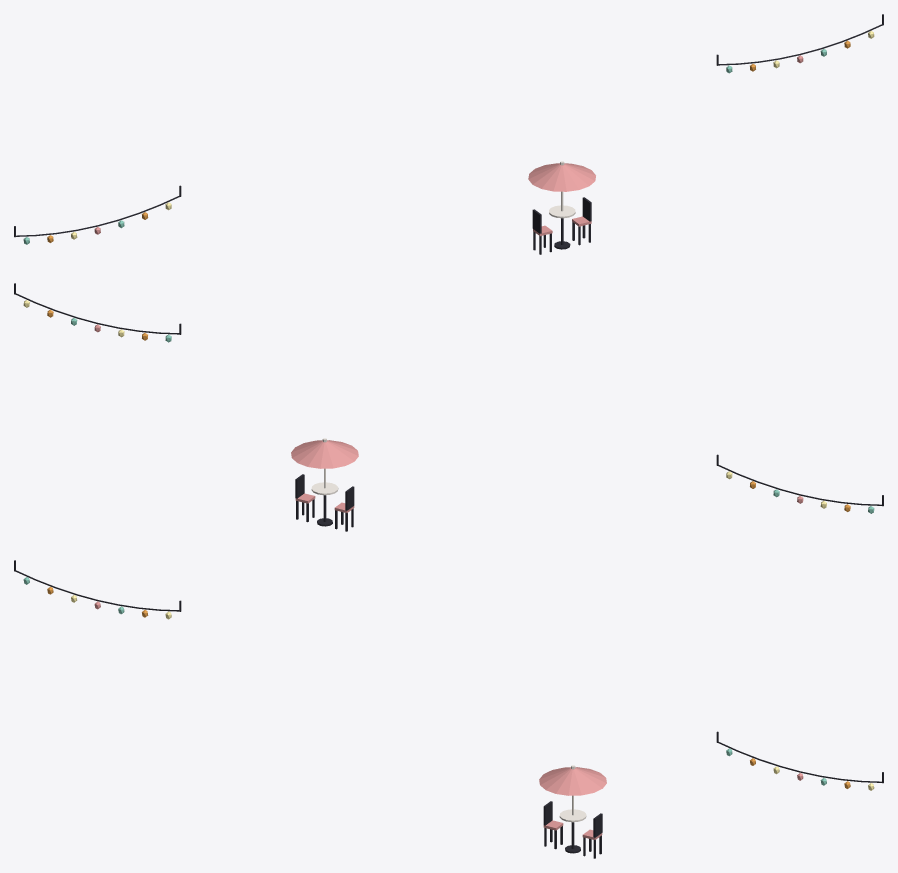
The model's file is CatCafe_Plot_Tier3_60x46.glb.
3 renders of one model, top to bottom at view 1: azimuth 30°, elevation 25°; view 2: azimuth 150°, elevation 25°; view 3: azimuth 330°, elevation 25°, orthographic.
Parts seen in each view (by area): view 1: CatCafe_Plot_Tier3_60x46_Bistro, CatCafe_Plot_Tier3_60x46, CatCafe_Plot_Tier3_60x46_StringLights_Bulbs; view 2: CatCafe_Plot_Tier3_60x46_Bistro, CatCafe_Plot_Tier3_60x46, CatCafe_Plot_Tier3_60x46_StringLights_Bulbs; view 3: CatCafe_Plot_Tier3_60x46_Bistro, CatCafe_Plot_Tier3_60x46, CatCafe_Plot_Tier3_60x46_StringLights_Bulbs.
Part boxes in pixels (x1,y1,x2,y2): CatCafe_Plot_Tier3_60x46_Bistro: [528, 161, 595, 254]; CatCafe_Plot_Tier3_60x46: [14, 14, 883, 237]; CatCafe_Plot_Tier3_60x46_StringLights_Bulbs: [23, 31, 874, 244]; CatCafe_Plot_Tier3_60x46_Bistro: [291, 438, 358, 531]; CatCafe_Plot_Tier3_60x46: [14, 283, 883, 506]; CatCafe_Plot_Tier3_60x46_StringLights_Bulbs: [23, 300, 874, 513]; CatCafe_Plot_Tier3_60x46_Bistro: [539, 765, 606, 858]; CatCafe_Plot_Tier3_60x46: [14, 560, 883, 783]; CatCafe_Plot_Tier3_60x46_StringLights_Bulbs: [23, 577, 874, 790].
Bounding box in the file's own units: 55.68 × 9.71 × 3.8.
Materials: 1 (1 with a texture image).
